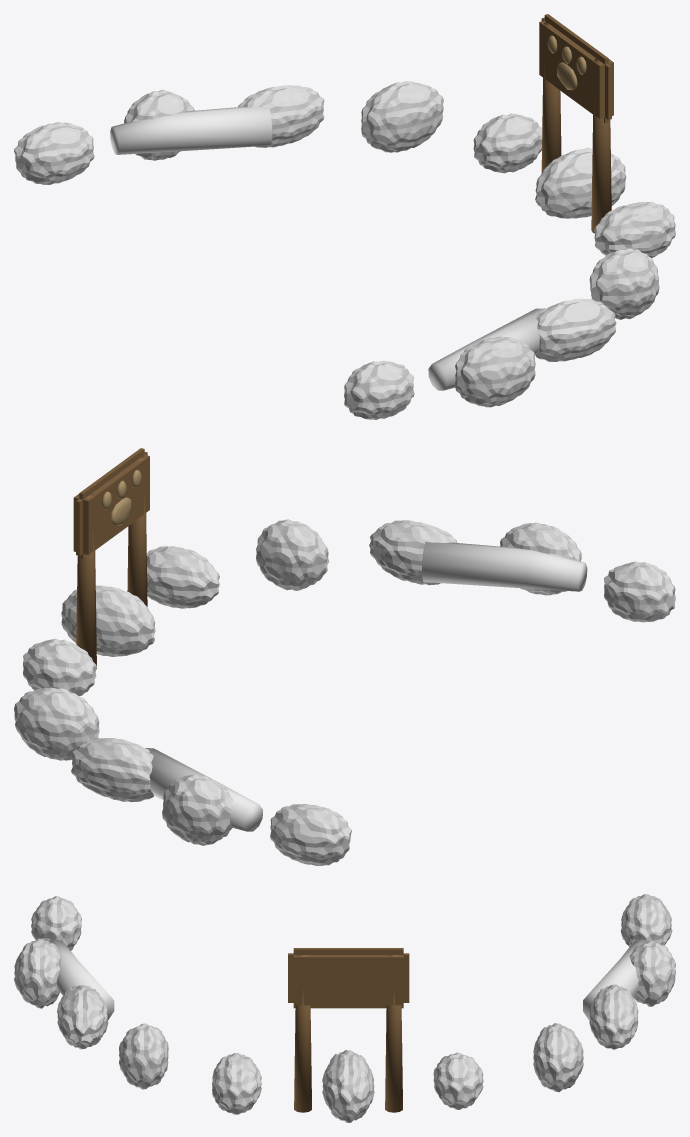
Rendered from SM_DF_CampMarker.fbx.
The picture shows the model from 3 angles, top to bottom: view 1: azimuth 30°, elevation 25°; view 2: azimuth 150°, elevation 25°; view 3: azimuth 270°, elevation 25°; orthographic projection. The views are drawn at different scales.
Visible parts, largest first — view 1: SM_DF_CampMarker; view 2: SM_DF_CampMarker; view 3: SM_DF_CampMarker.
Boxes of the visible parts, box(x1,y1,x2,y2) form: SM_DF_CampMarker: box(14, 14, 675, 419); SM_DF_CampMarker: box(14, 448, 675, 865); SM_DF_CampMarker: box(14, 894, 675, 1122).
Bounding box in the file's own units: 493 × 698 × 193.
